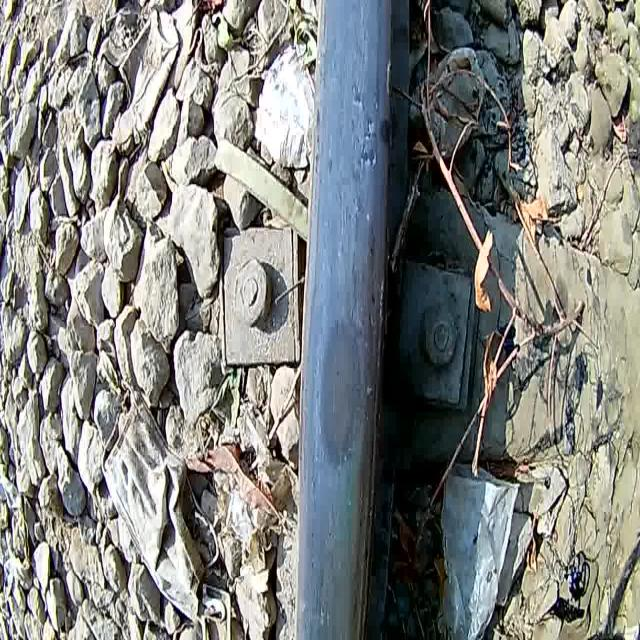Squats: (267, 0, 423, 640)
